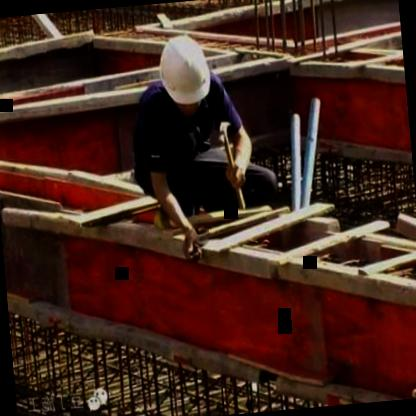helmet: (152, 23, 218, 114)
